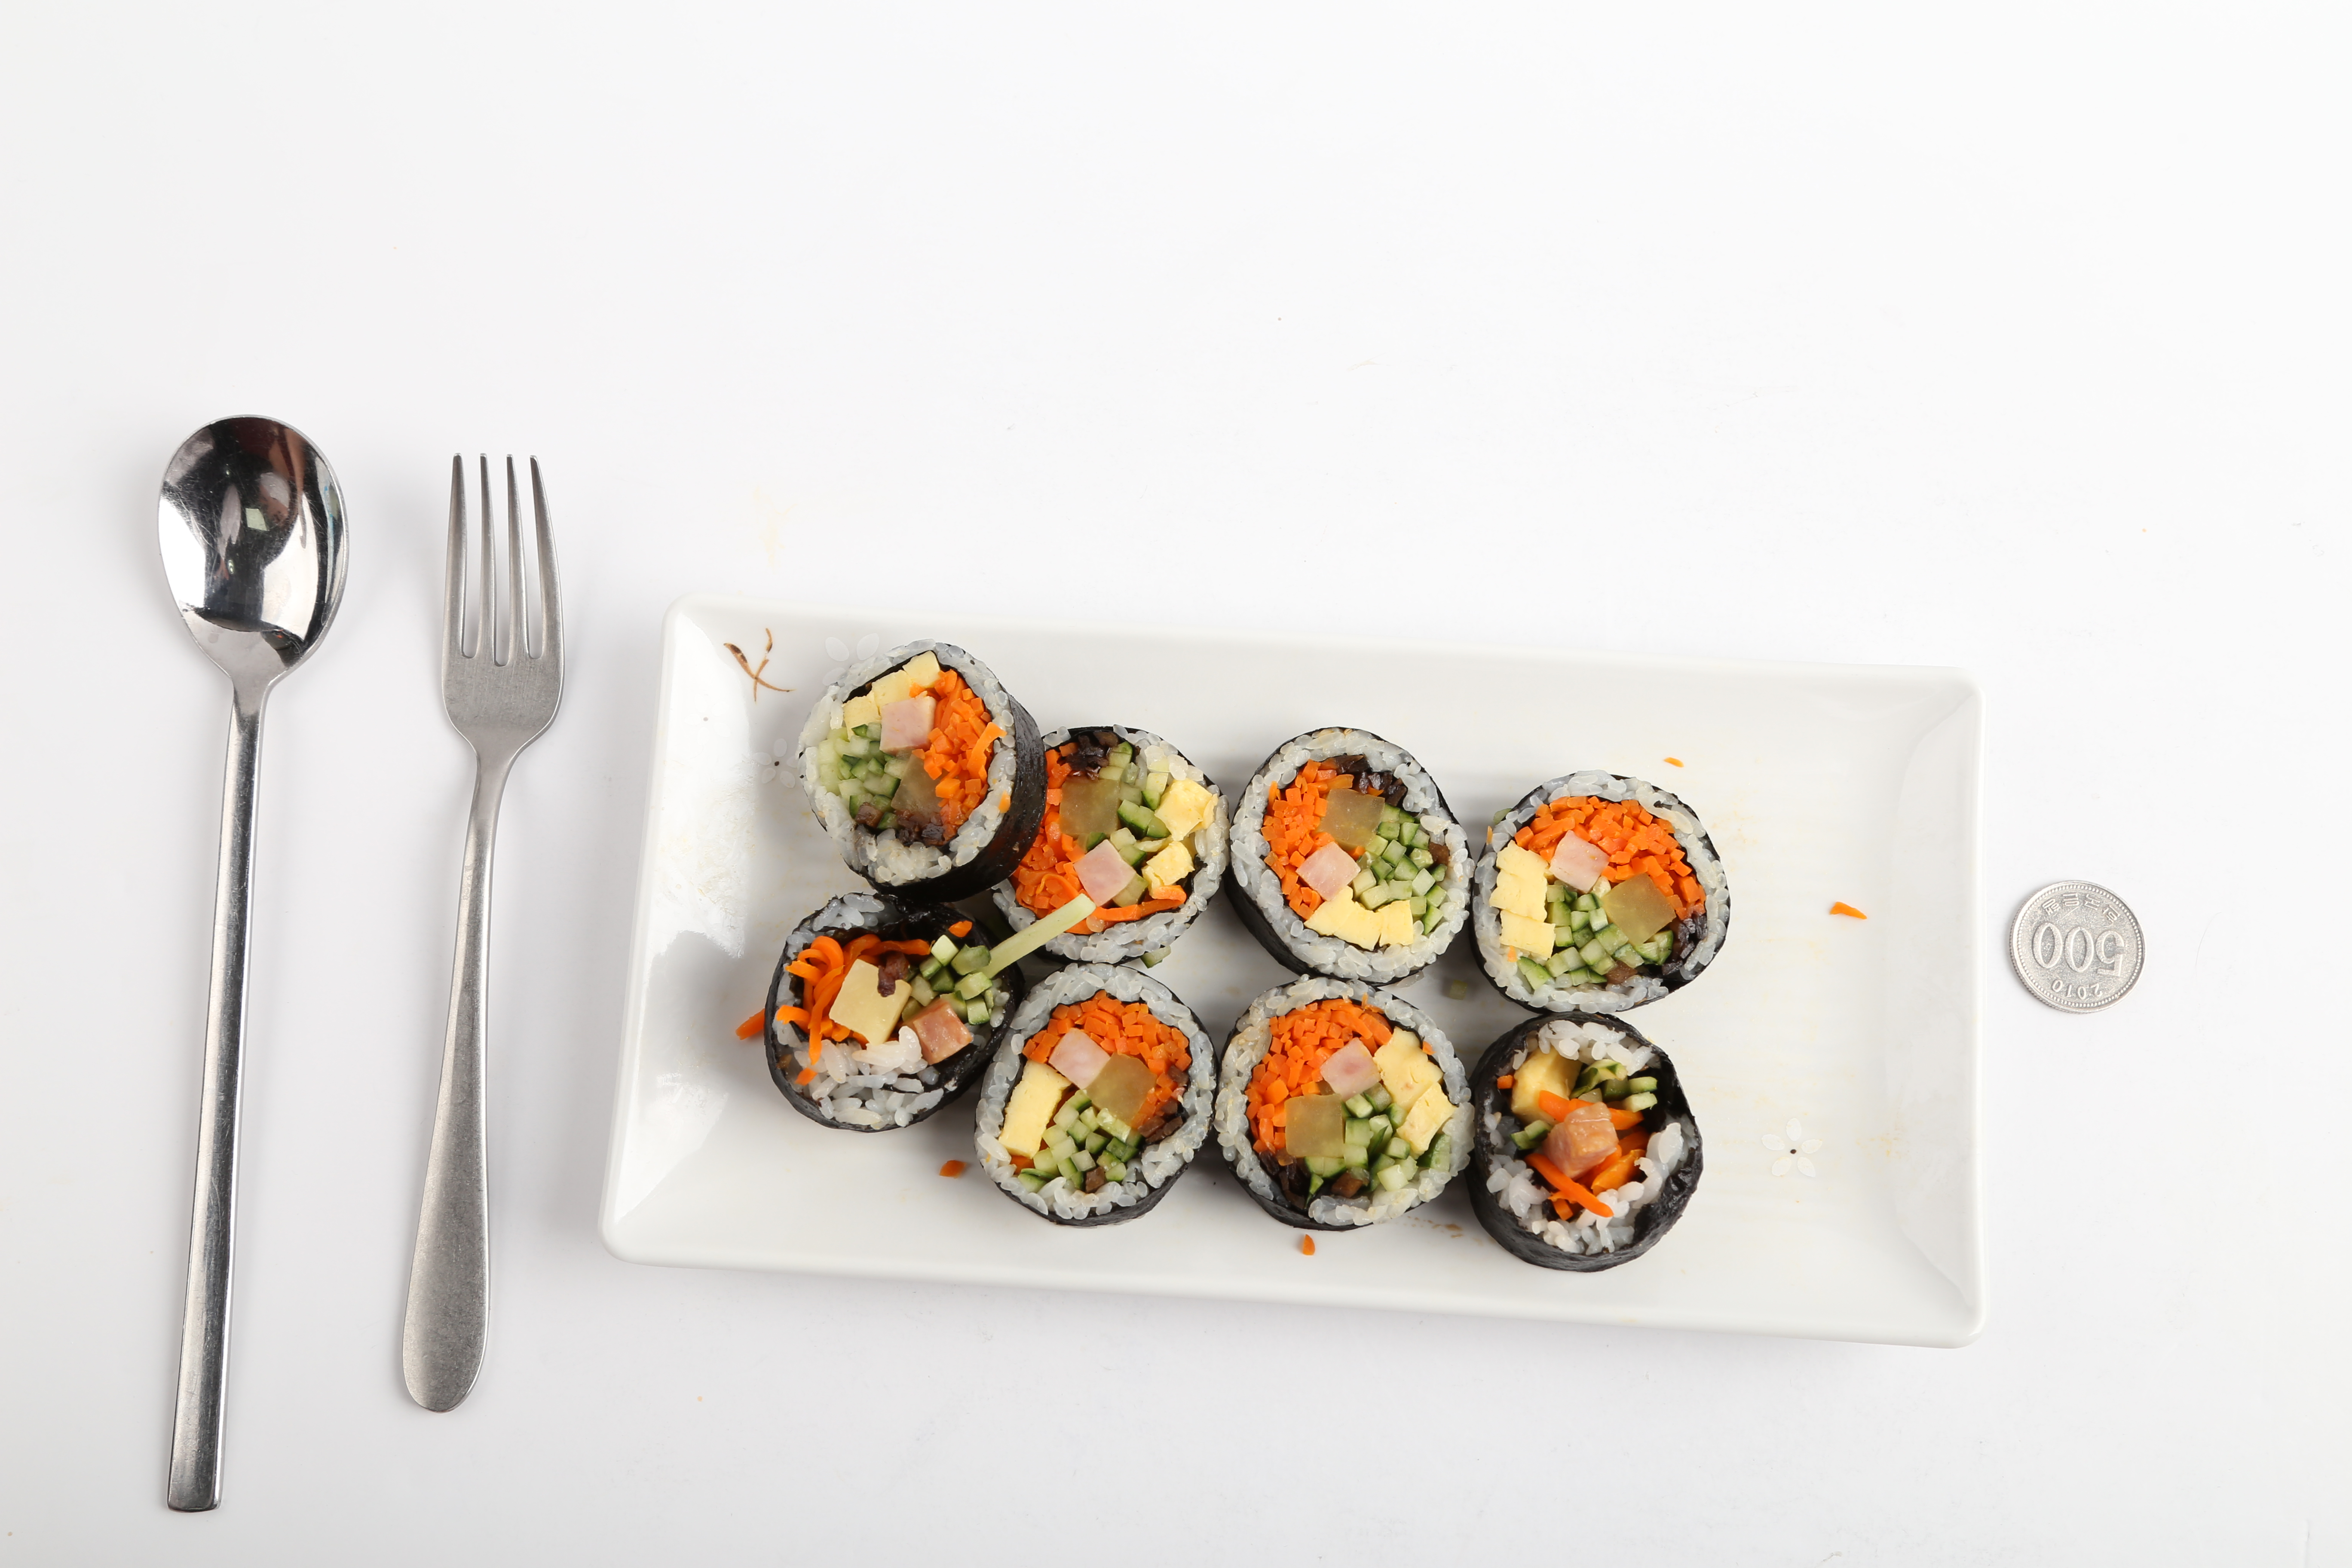dish: (600, 588, 1988, 1347)
ref_coin: (2005, 873, 2147, 1017)
ref_fork: (434, 446, 572, 782)
ref_spoon: (152, 406, 355, 738)
김밥: (766, 637, 1736, 1274)
